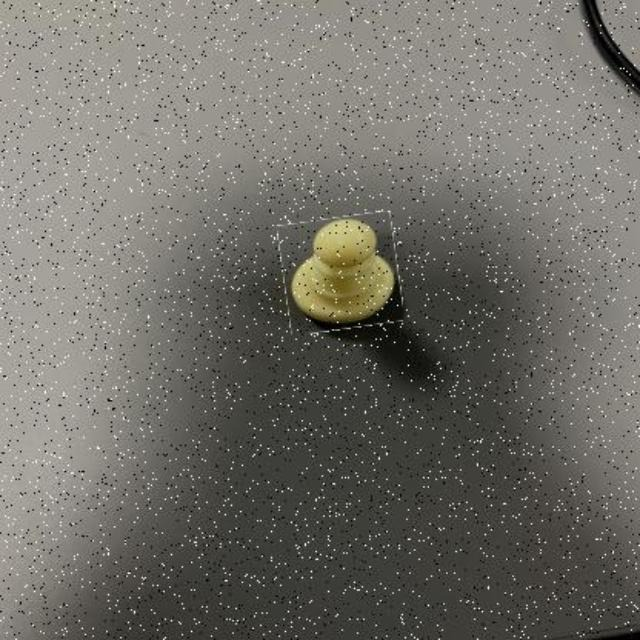white-pawn: (281, 216, 402, 332)
